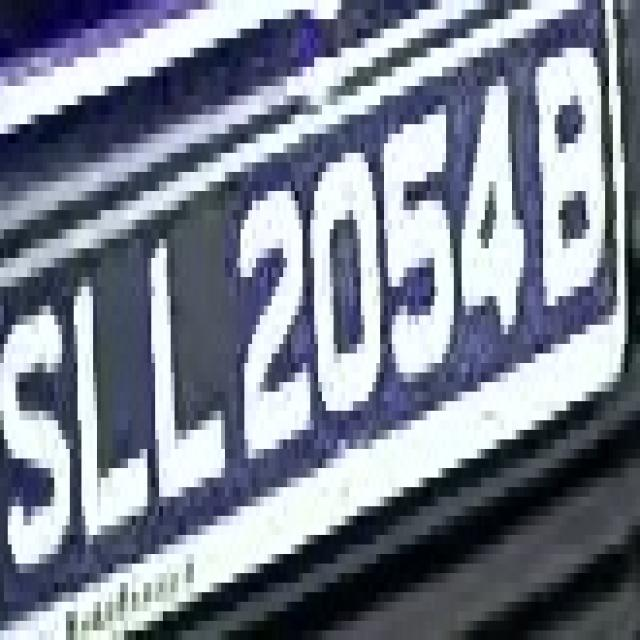0: (310, 134, 384, 439)
2: (225, 143, 306, 468)
4: (450, 58, 531, 372)
5: (384, 67, 454, 420)
B: (531, 38, 617, 344)
L: (140, 210, 236, 554), (58, 248, 144, 573)
S: (0, 277, 78, 592)
